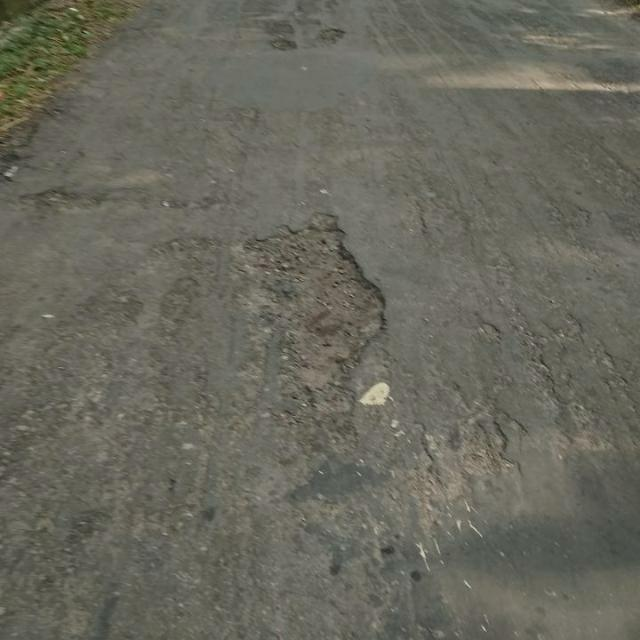Pothole: (236, 215, 391, 405), (315, 24, 346, 49), (262, 20, 297, 36), (268, 38, 300, 52)
